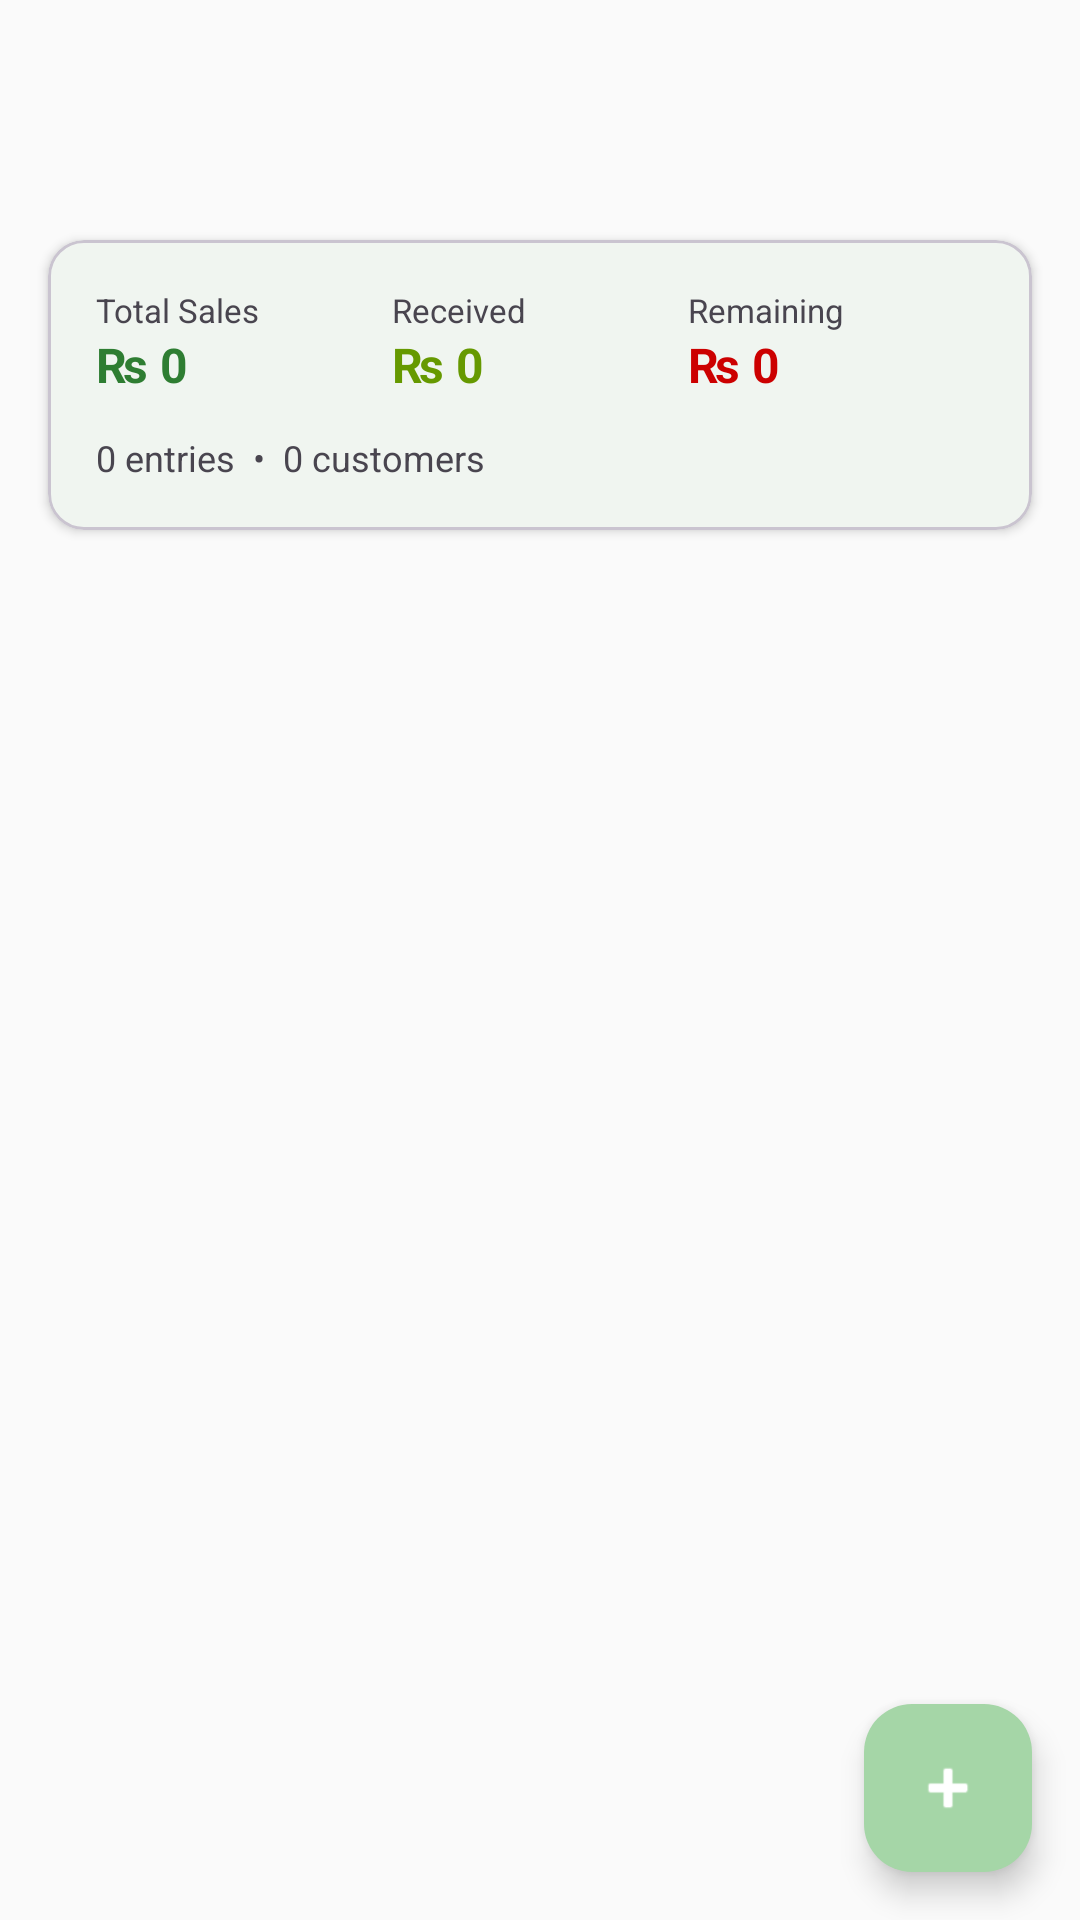

Screen size 1080*1920. Icon name, then its box in pixels as (x1, y1, x2, y2):
Add Entry: (864, 1704, 1032, 1872)
